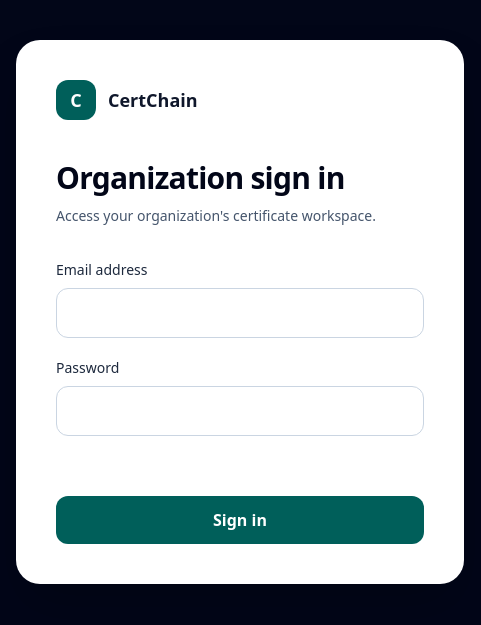
organization login › associates validation errors and does not submit invalid credentials
Click the button "Sign in" at (240, 520), box [56, 496, 424, 544]
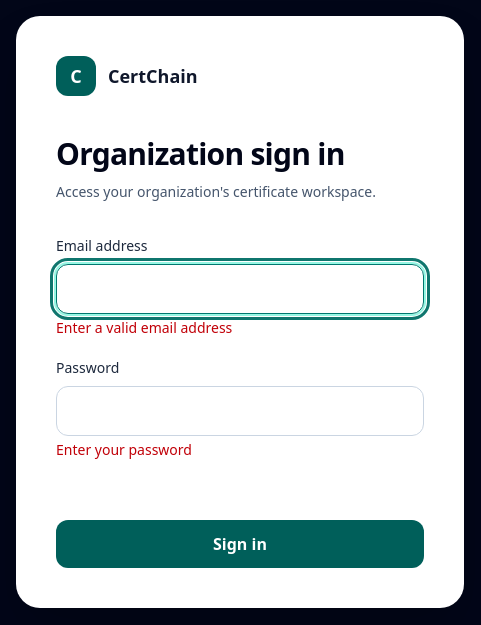
expect the text "Enter a valid email address" is shown: met, box [56, 318, 232, 337]
